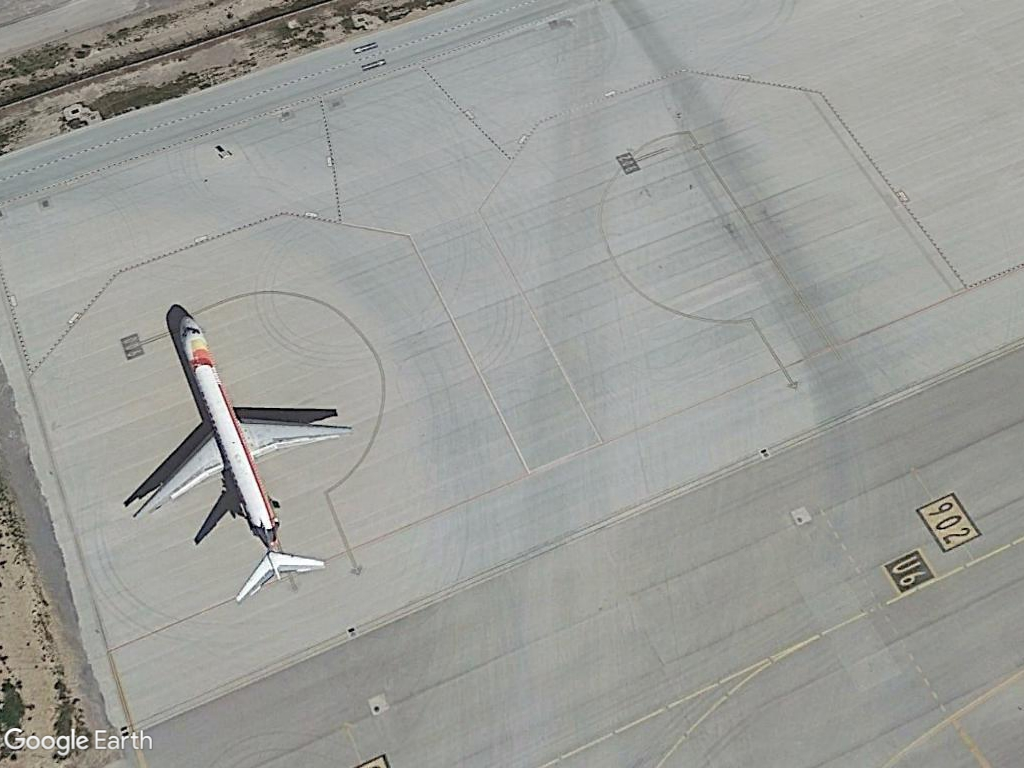airliner: (102, 310, 357, 610)
